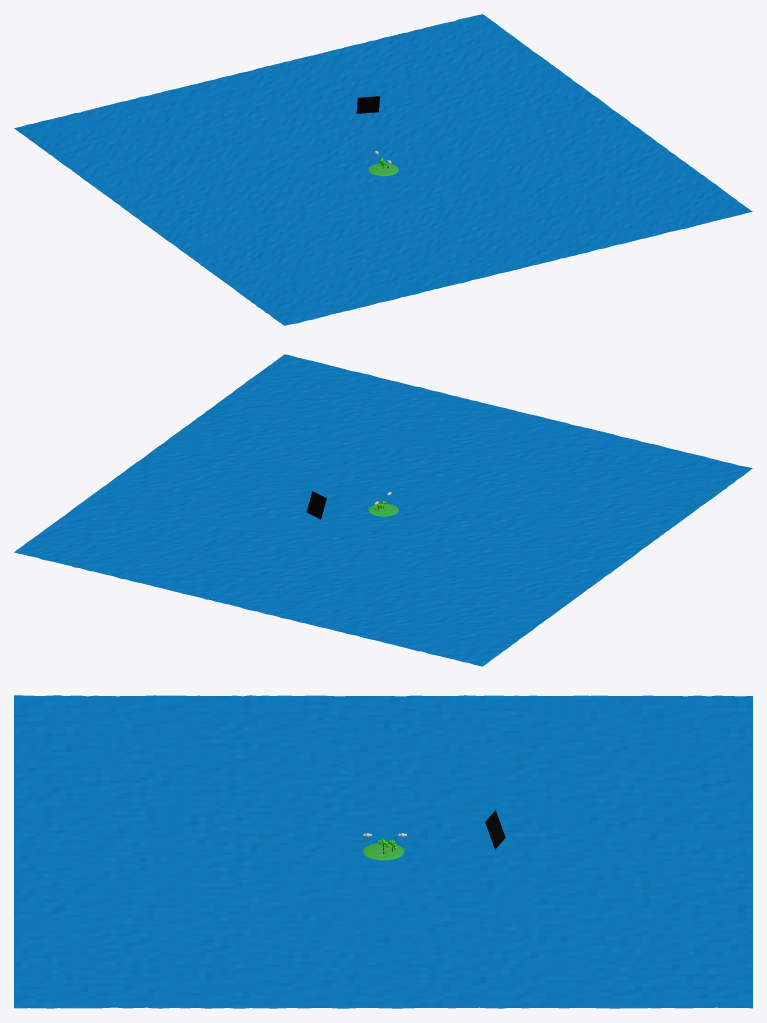
The model's file is lowPolyIsland.fbx.
3 renders of one model, top to bottom at view 1: azimuth 30°, elevation 25°; view 2: azimuth 150°, elevation 25°; view 3: azimuth 270°, elevation 25°, orthographic. The views are drawn at different scales.
Parts seen in each view (by area): view 1: Plane; view 2: Plane; view 3: Plane, Sphere.
Part boxes in pixels (x1,y1,x2,y2): Plane: [14, 14, 752, 325]; Plane: [14, 354, 752, 666]; Plane: [14, 695, 752, 1008]; Sphere: [362, 843, 404, 860].
Size of the model in its own units: 30000 by 2386 by 30000.
